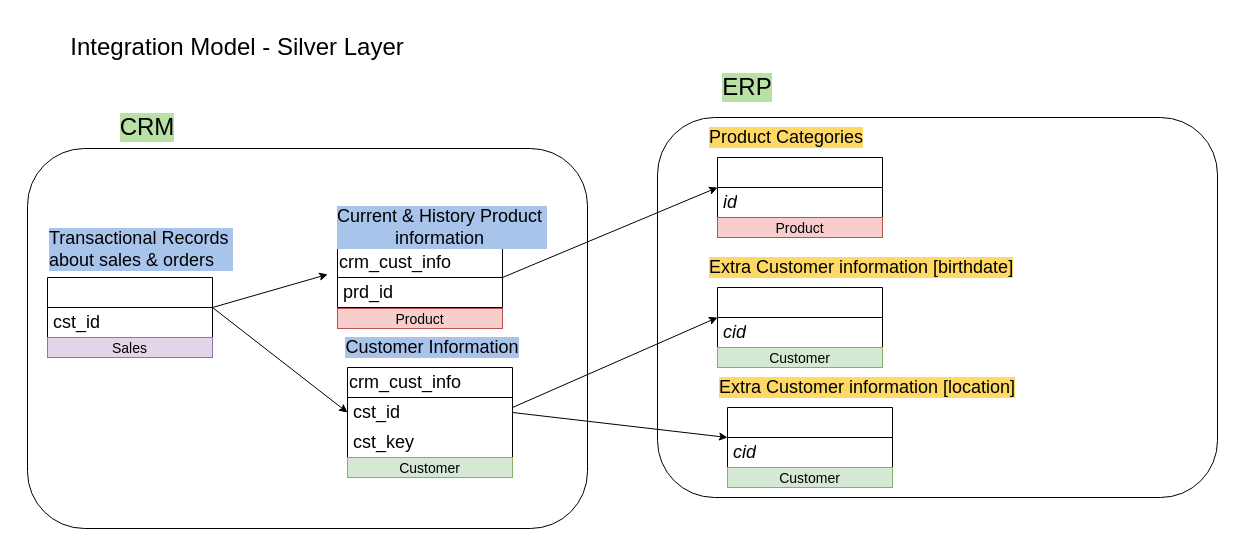
The diagram is 1235 pixels wide and 546 high, and some of its shapes have lost their labels. Here are the shapes that lost their labels. From the top down, the box of each, then its label:
(716, 156, 882, 218): erp_px_cat_g1v2
(46, 276, 212, 338): prd_key
(716, 286, 882, 348): erp_cust_az12
(726, 406, 892, 468): erp_loc_a101
